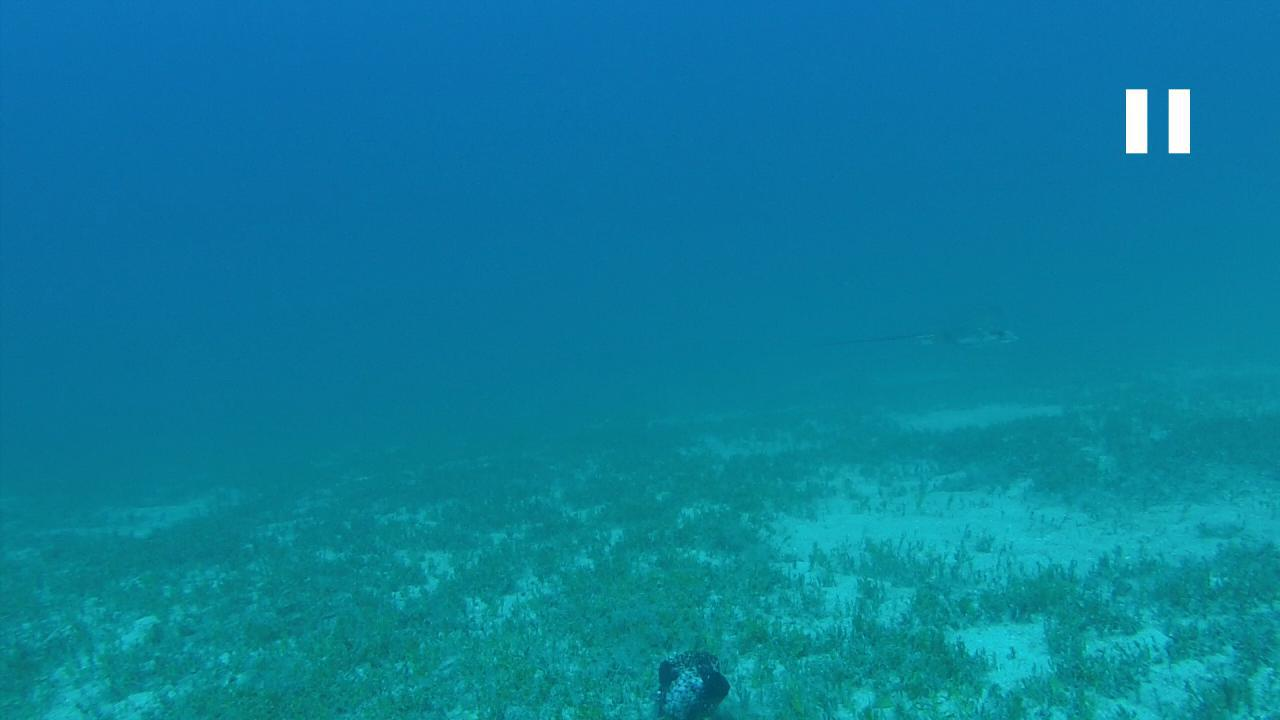dasyatis: (820, 292, 1019, 351)
